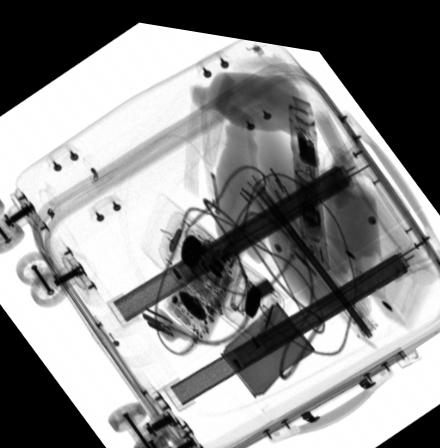Baton: (288, 85, 331, 260)
